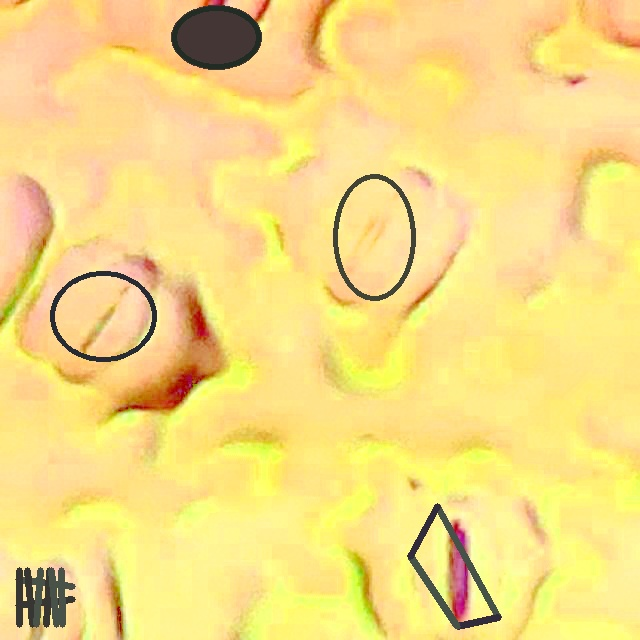close: (333, 174, 415, 300), (49, 269, 157, 362)
open: (407, 503, 500, 629), (171, 4, 261, 69), (15, 567, 75, 626)
